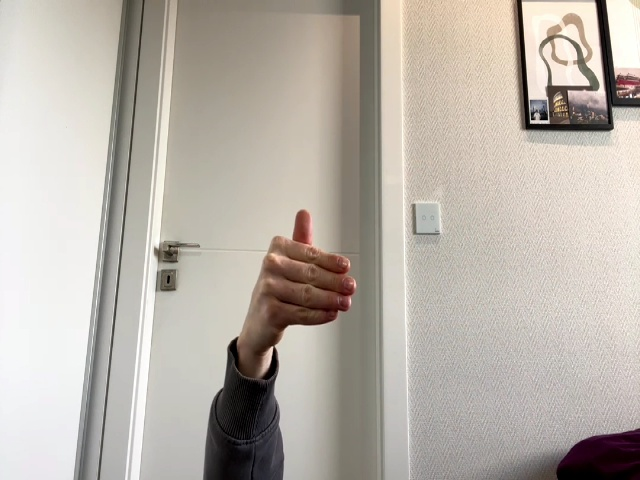M: (245, 210, 356, 342)
